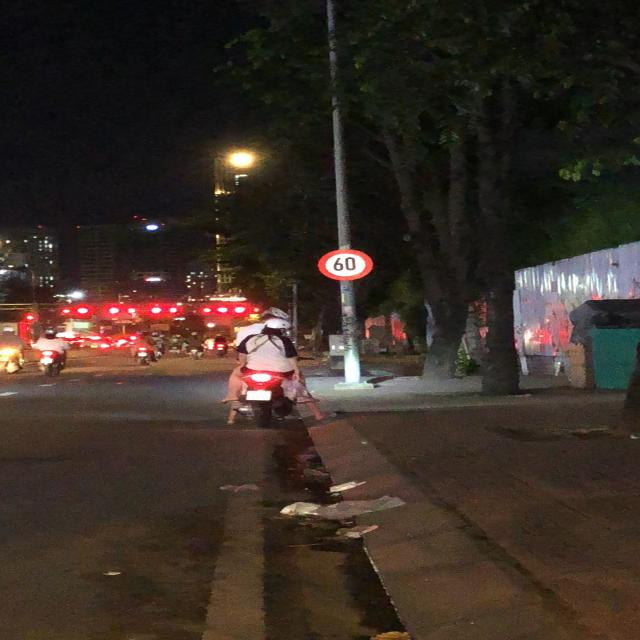Bien bao toc do toi da cho phep: (308, 246, 379, 283)
